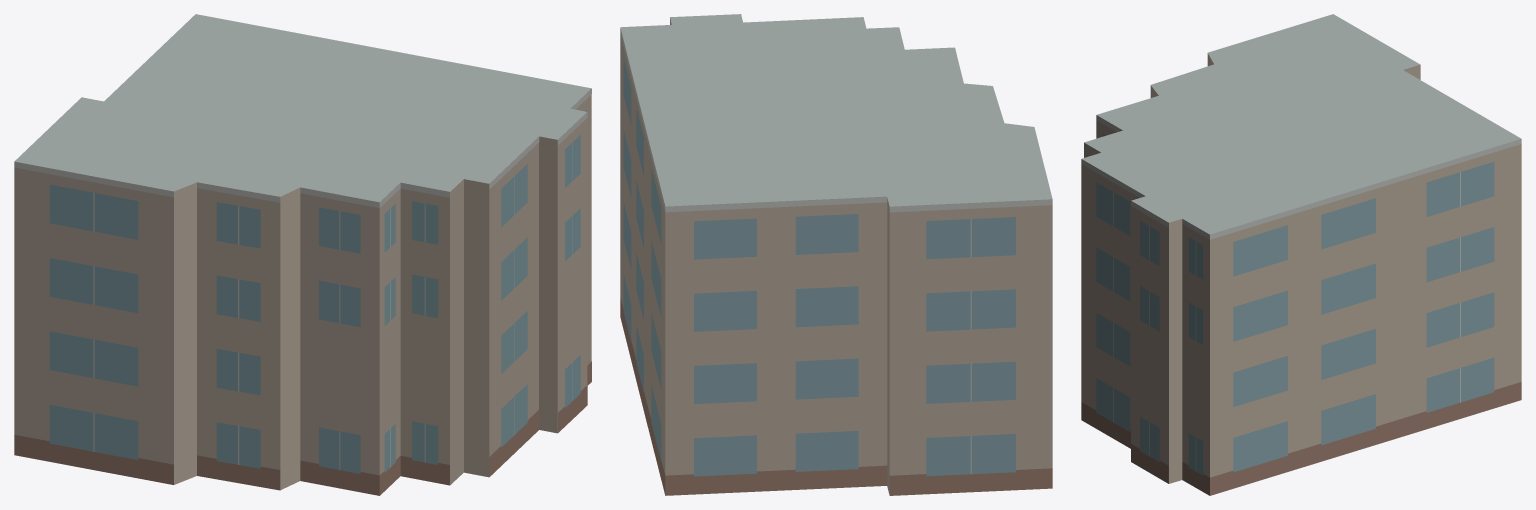
Rendered from residential-d9295d49-222b-437d-883d-a024ea60376c.glb.
The picture shows the model from 3 angles, left to right: view 1: azimuth 30°, elevation 25°; view 2: azimuth 150°, elevation 25°; view 3: azimuth 270°, elevation 25°; orthographic projection. The views are drawn at different scales.
Visible parts, largest first — view 1: residential-d9295d49-222b-437d-883d-a024ea60376c.tmp; view 2: residential-d9295d49-222b-437d-883d-a024ea60376c.tmp; view 3: residential-d9295d49-222b-437d-883d-a024ea60376c.tmp.
Boxes of the visible parts, box(x1,y1,x2,y2) form: residential-d9295d49-222b-437d-883d-a024ea60376c.tmp: box(14, 14, 591, 495); residential-d9295d49-222b-437d-883d-a024ea60376c.tmp: box(620, 14, 1052, 495); residential-d9295d49-222b-437d-883d-a024ea60376c.tmp: box(1081, 14, 1521, 495).
Bounding box in the file's own units: 22.11 × 12.2 × 18.64.
